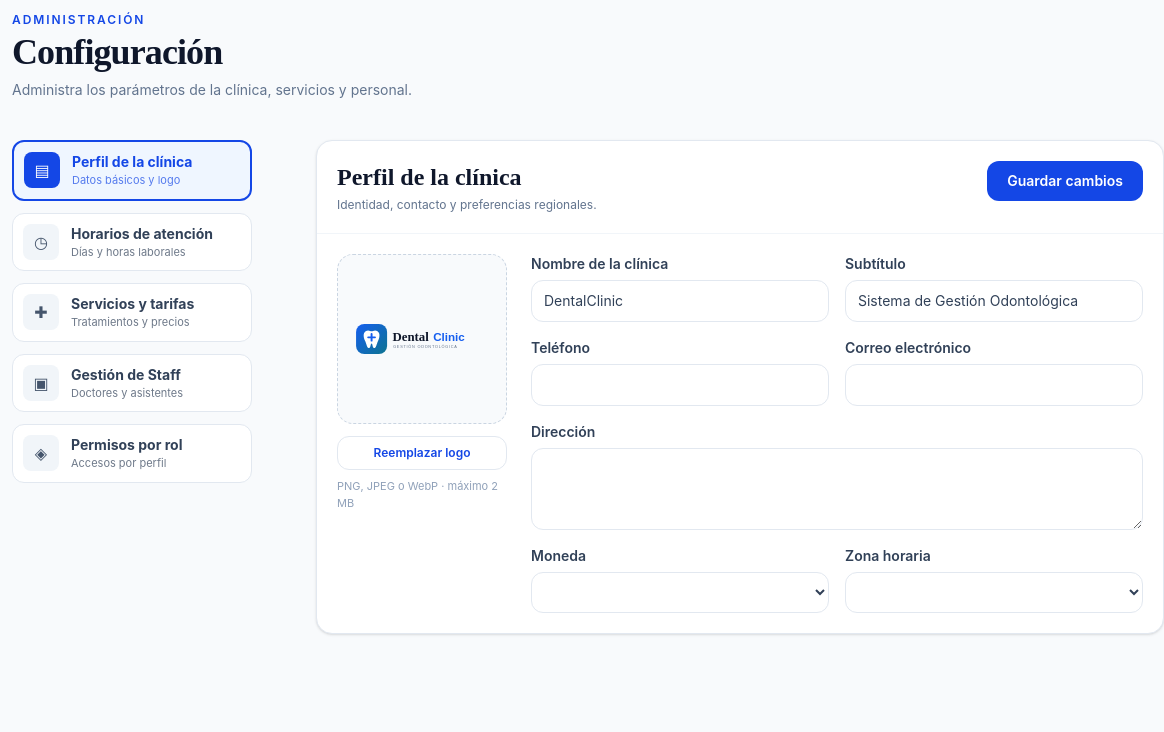
SettingsPage staff management › loads the next bounded staff page
This screenshot has width=1164, height=732.
Click the button "▣ Gestión de Staff Doctores y asistentes" at (132, 383), box [12,354,252,412]
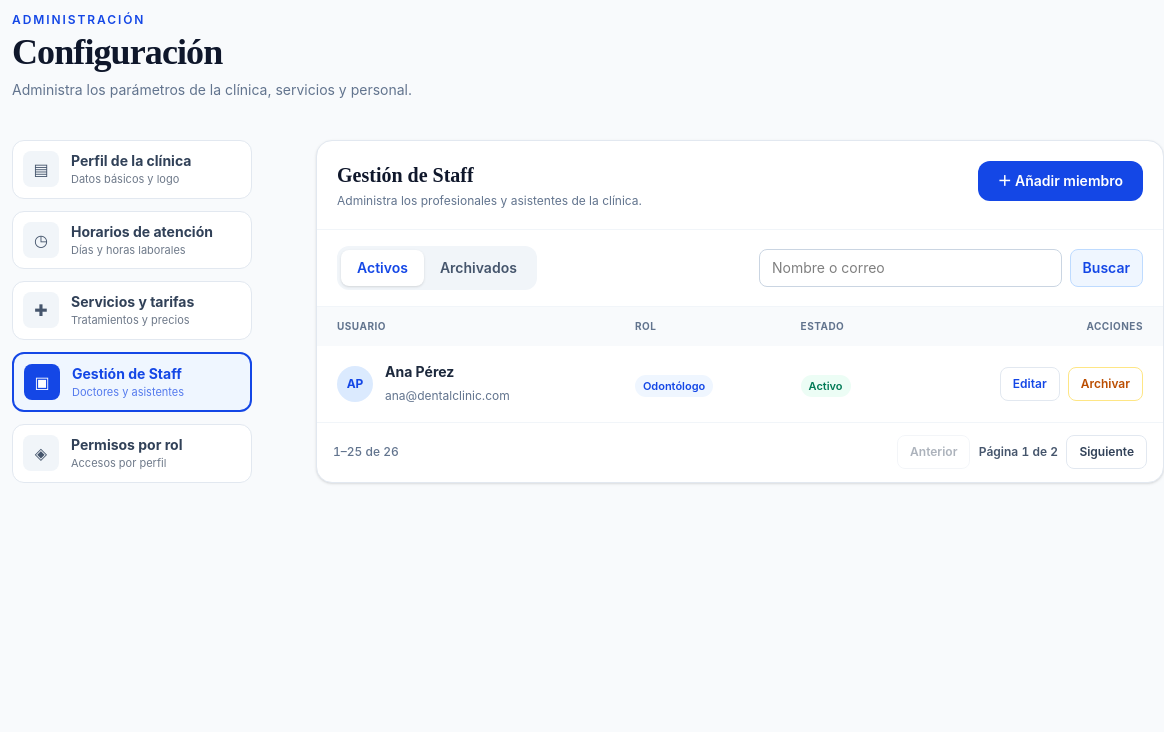
Click the button with aria-label "Página siguiente de Personal" at (1107, 452), box [1066,435,1147,469]
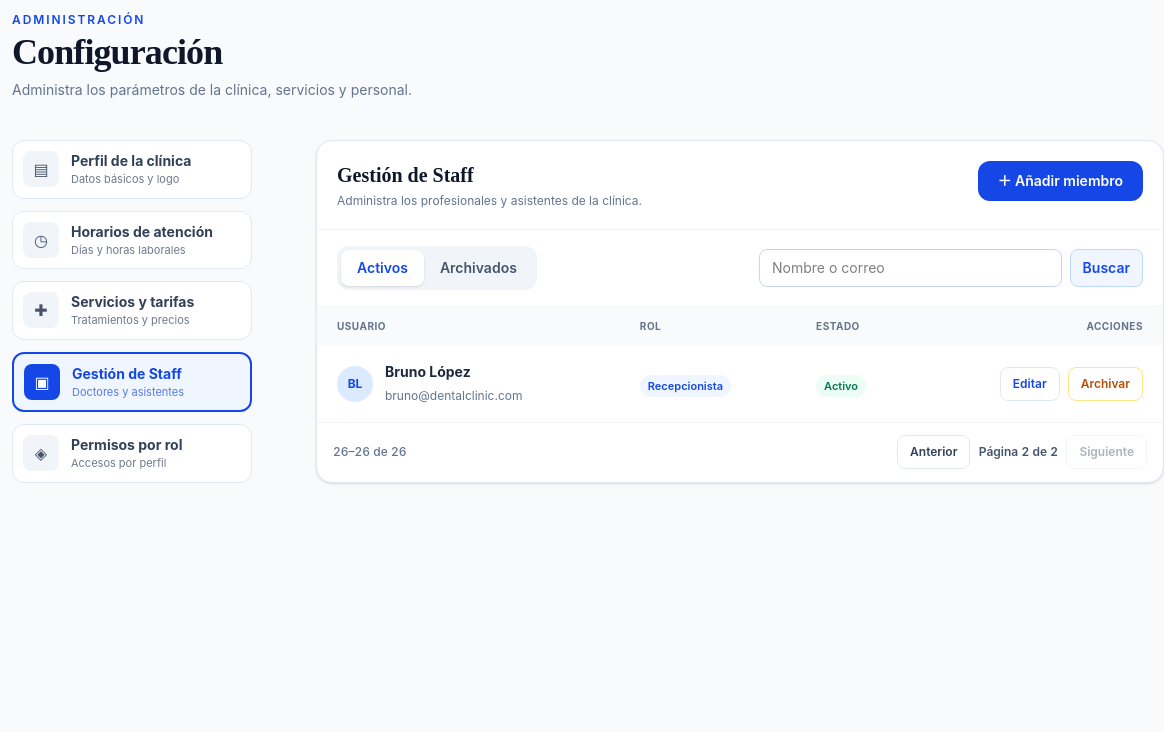
expect the text "Bruno López" is shown: met, box [385,363,471,380]
